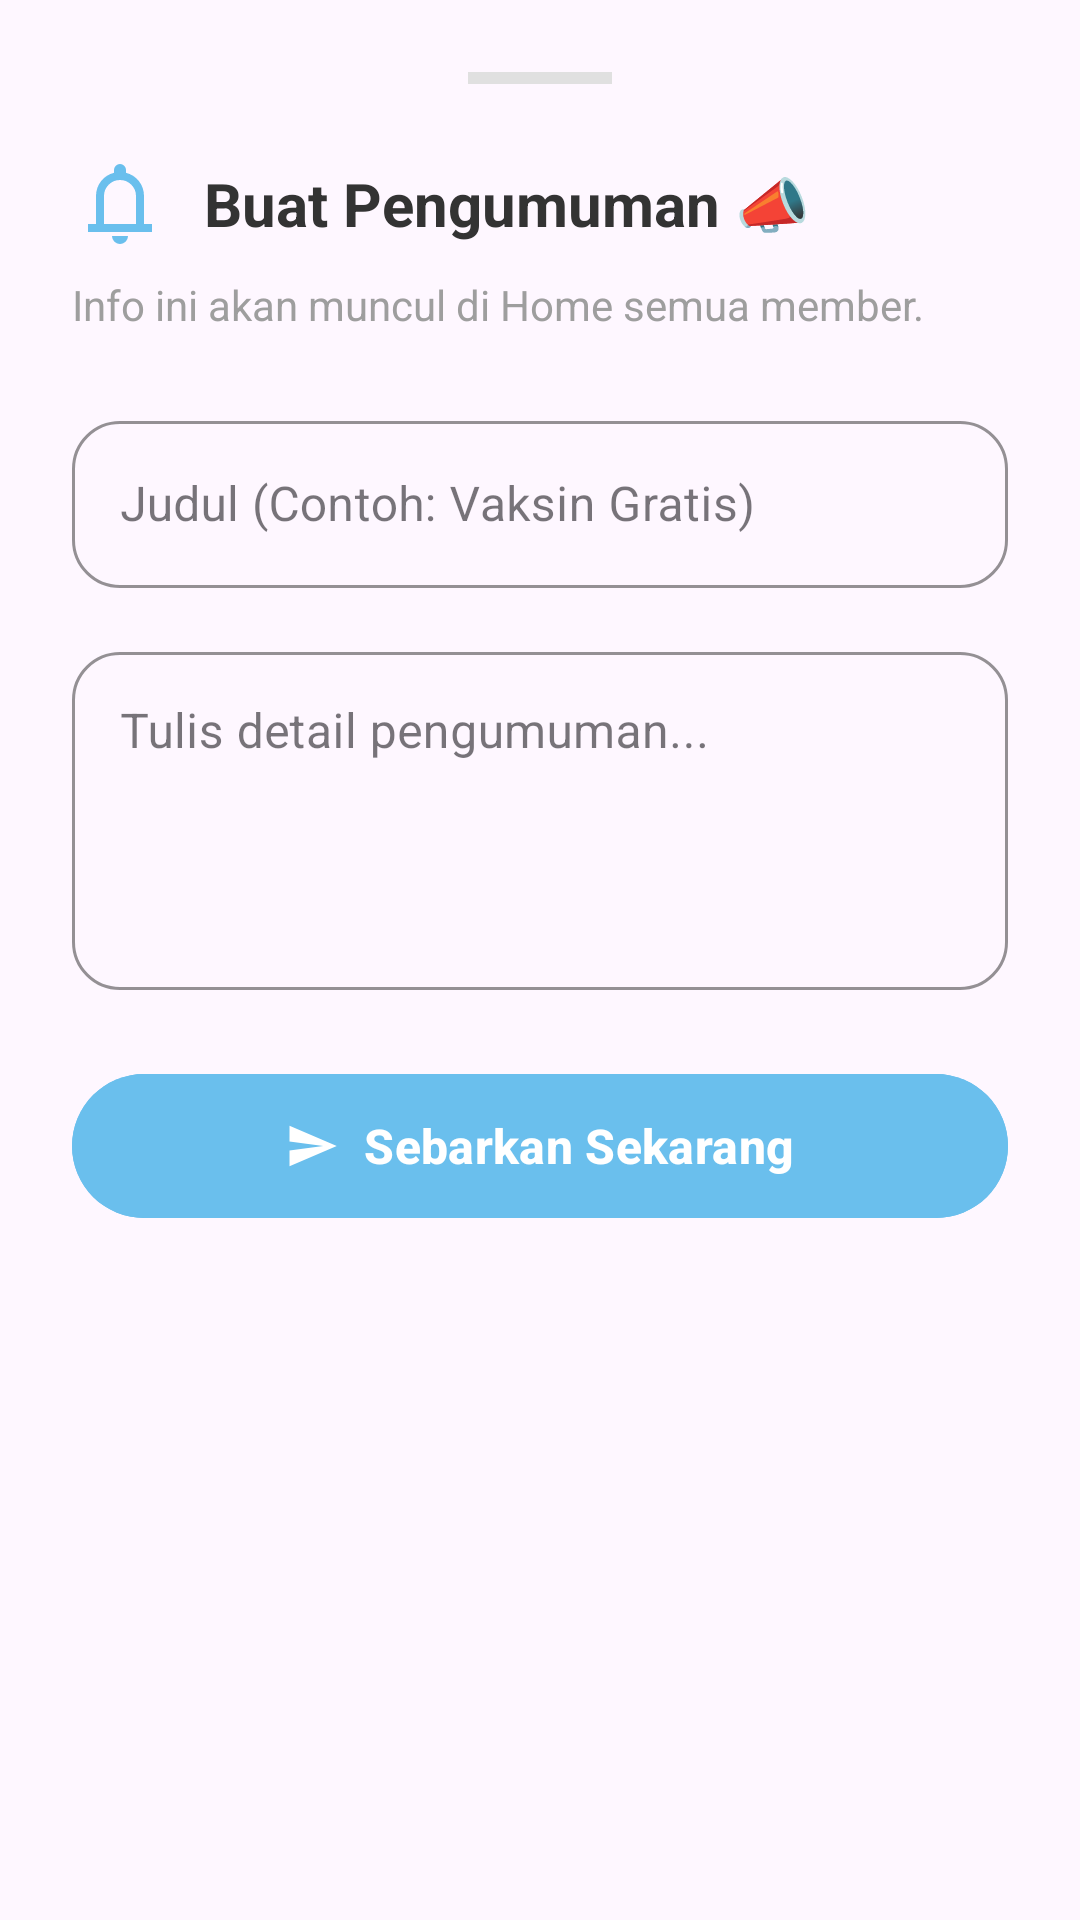

Screen size 1080px x 1920px. Icon name, then its center in pixels as point (x, y):
notification: point (120, 204)
